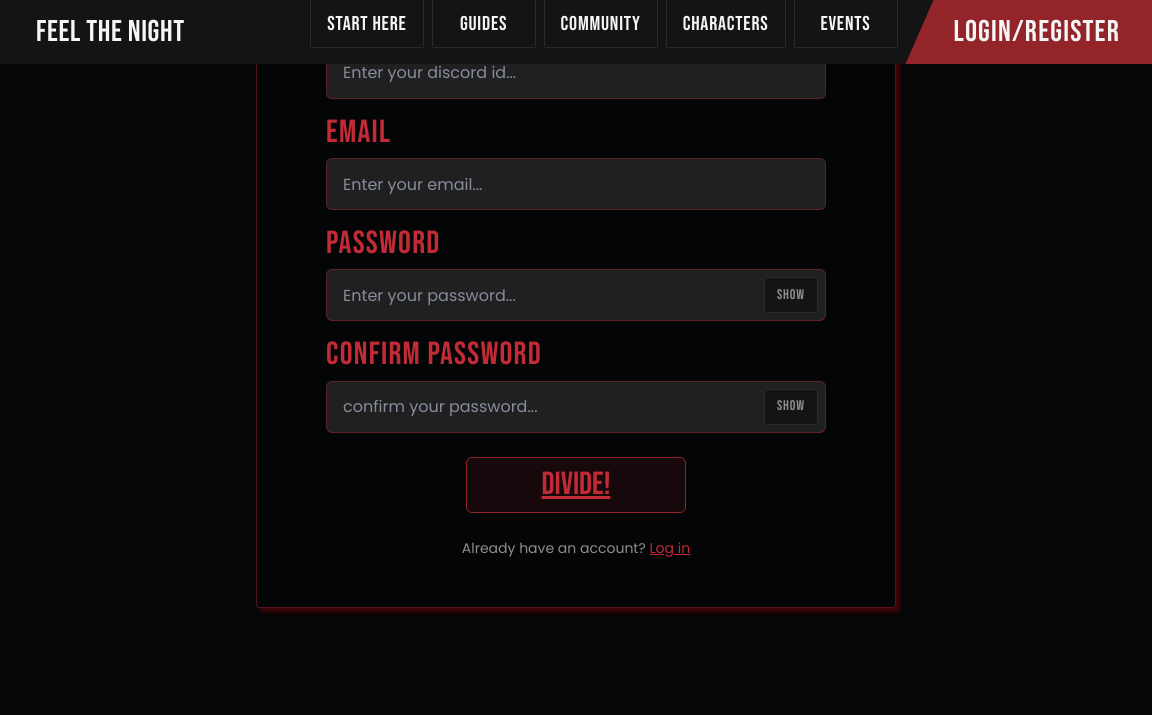
Test: Register › reports errors on an empty submission and does not clear the form
The image size is (1152, 715).
(page scrolled)
Click the button "divide!". click: (576, 484)
box: [466,456,686,512]
(page scrolled)
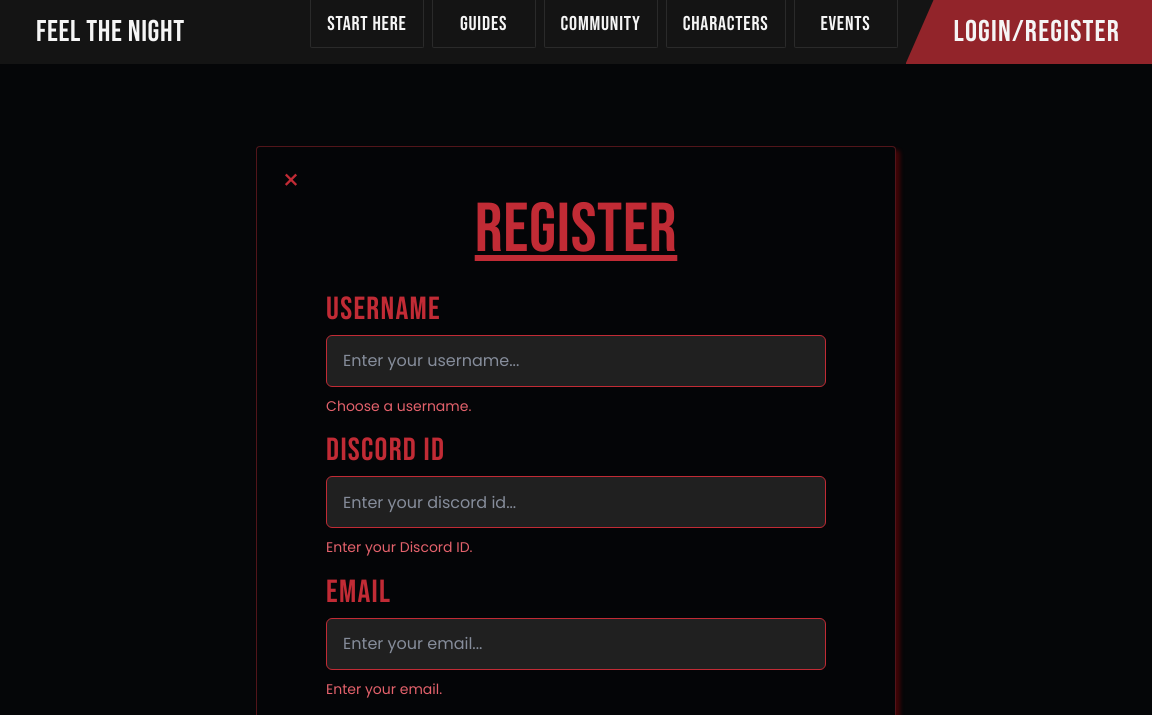
Check: the text "Choose a username." is shown, box [326,396,471,416]
Check: the text "Enter your Discord ID." is shown, box [326,537,473,557]
Check: the text "Enter your email." is shown, box [326,679,442,699]
